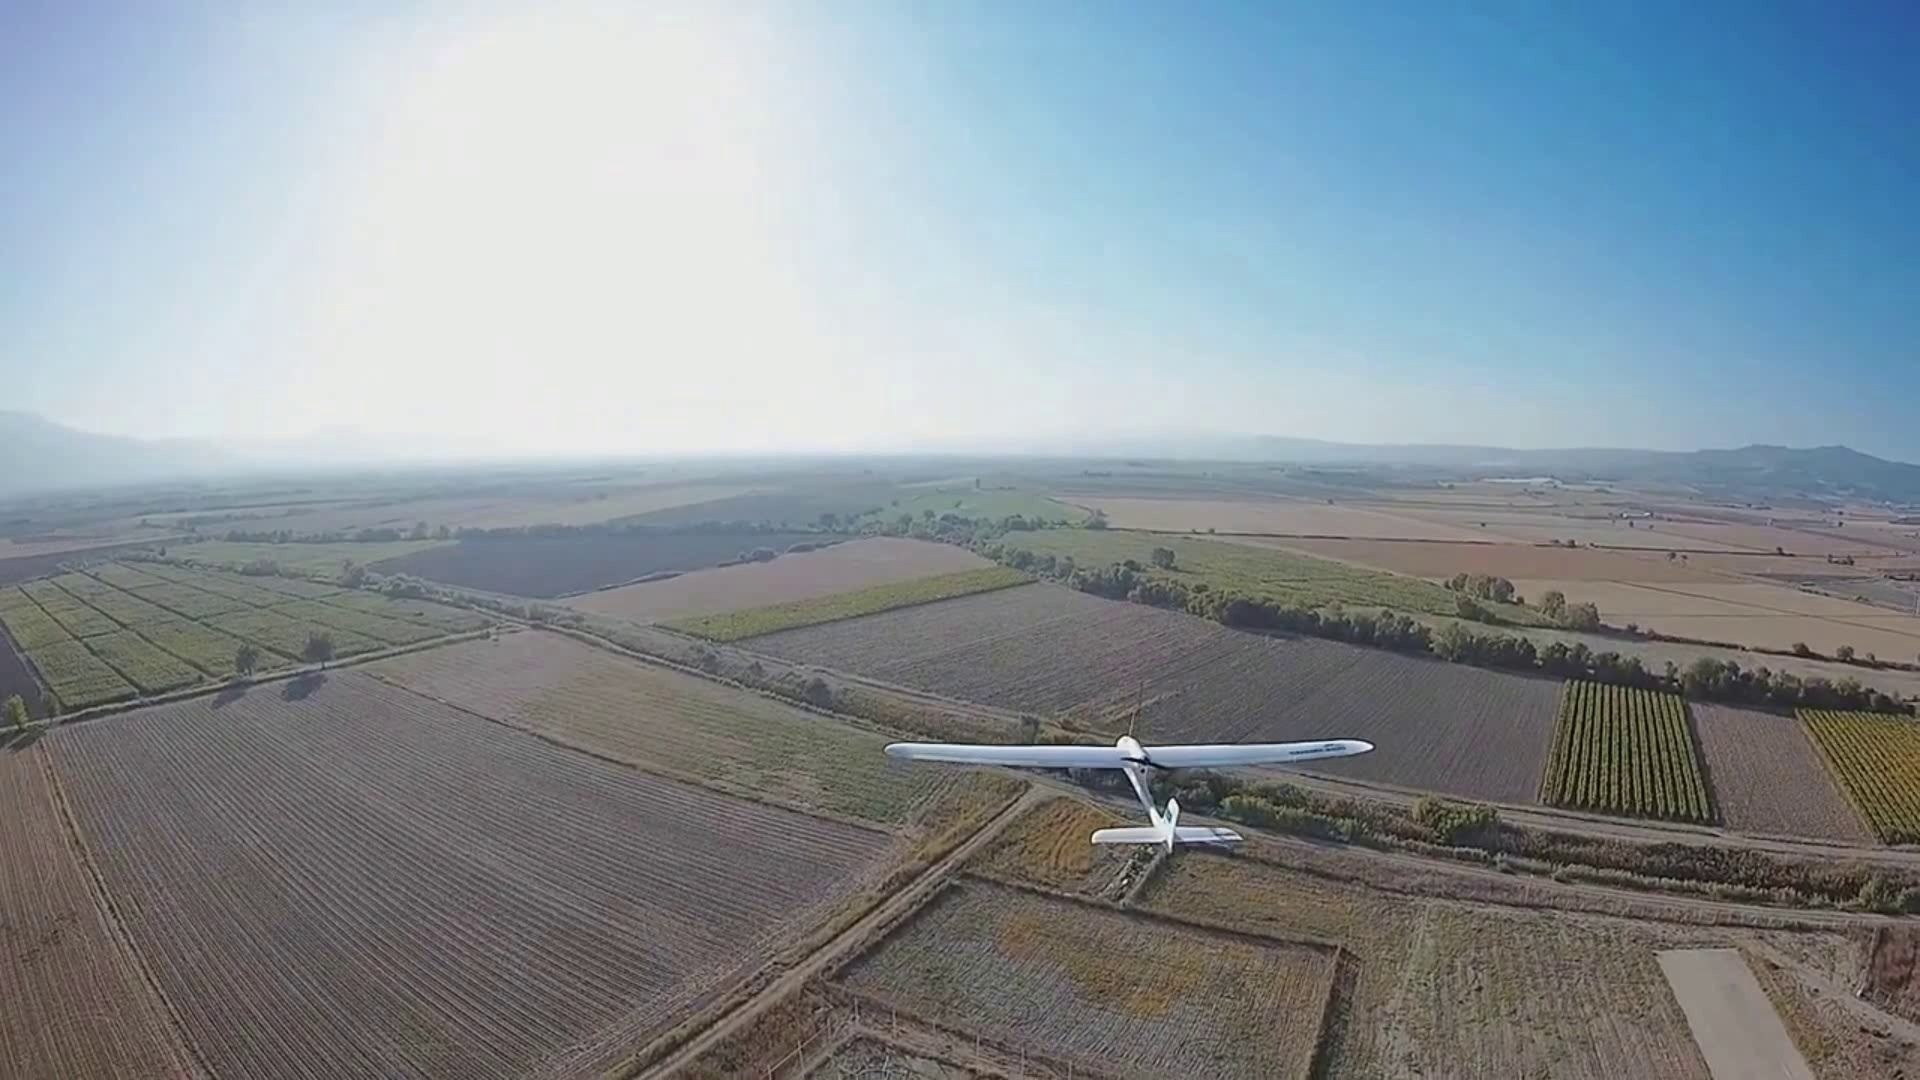airplane: (884, 717, 1373, 857)
